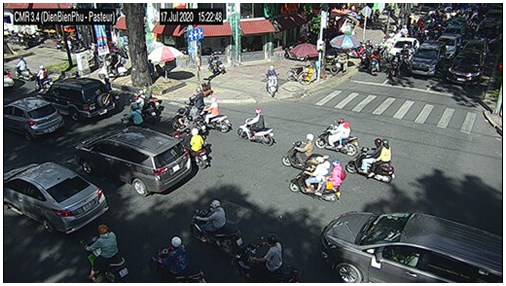xe_hoi: (319, 211, 502, 283), (75, 126, 194, 196), (5, 162, 109, 233), (52, 77, 118, 119), (4, 97, 66, 141), (408, 40, 446, 79), (449, 48, 485, 86), (475, 20, 500, 45), (437, 32, 461, 57), (390, 37, 419, 57), (444, 24, 465, 38)
xe_may: (230, 233, 301, 283), (190, 199, 244, 254), (80, 224, 128, 283), (290, 154, 347, 201), (149, 236, 206, 283), (346, 138, 396, 183), (316, 118, 359, 155), (236, 108, 275, 145), (280, 132, 319, 168), (201, 98, 232, 134), (185, 128, 211, 169), (172, 117, 201, 140), (136, 89, 155, 122), (141, 82, 160, 110), (14, 57, 35, 82), (264, 64, 279, 98), (33, 65, 52, 91), (124, 104, 143, 129), (174, 103, 199, 122), (186, 88, 206, 108), (389, 51, 401, 78), (370, 48, 380, 75)
